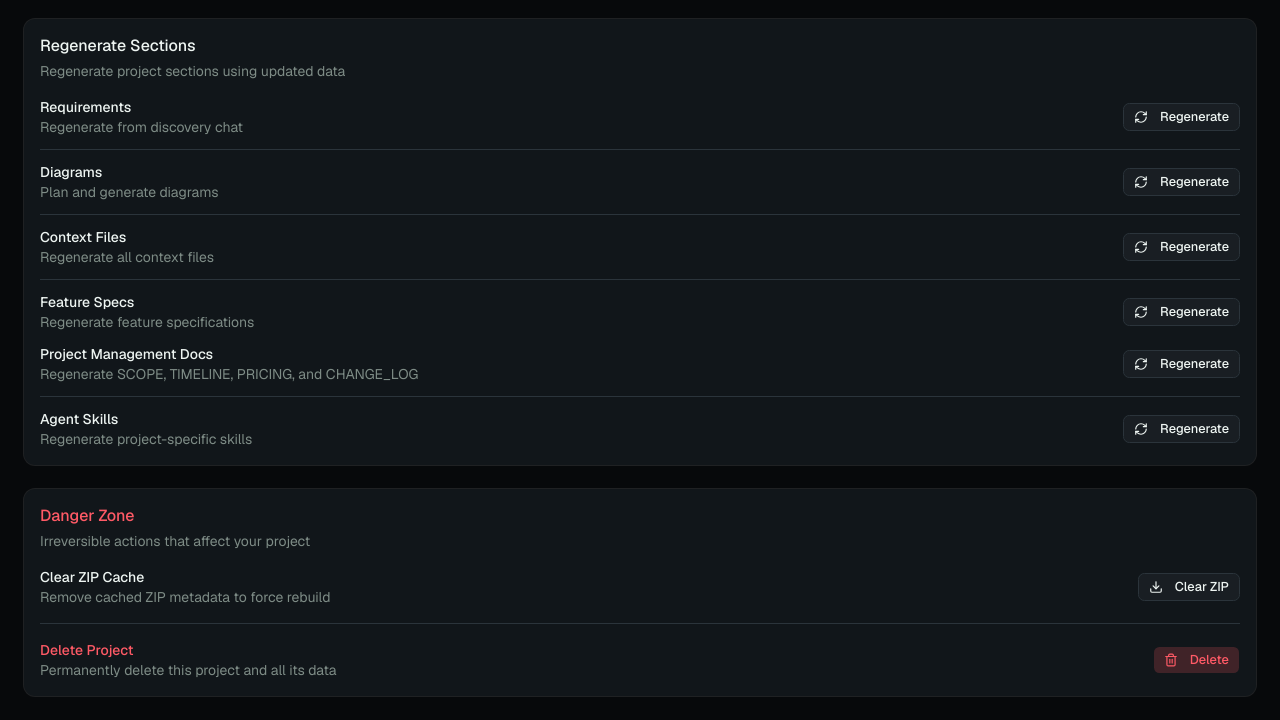
Test: ProjectSettings › clears ZIP metadata
(page scrolled)
Step 1. Click the button "Clear ZIP" → point(1189, 587), box 1138,573 -> 1240,601
(page scrolled)
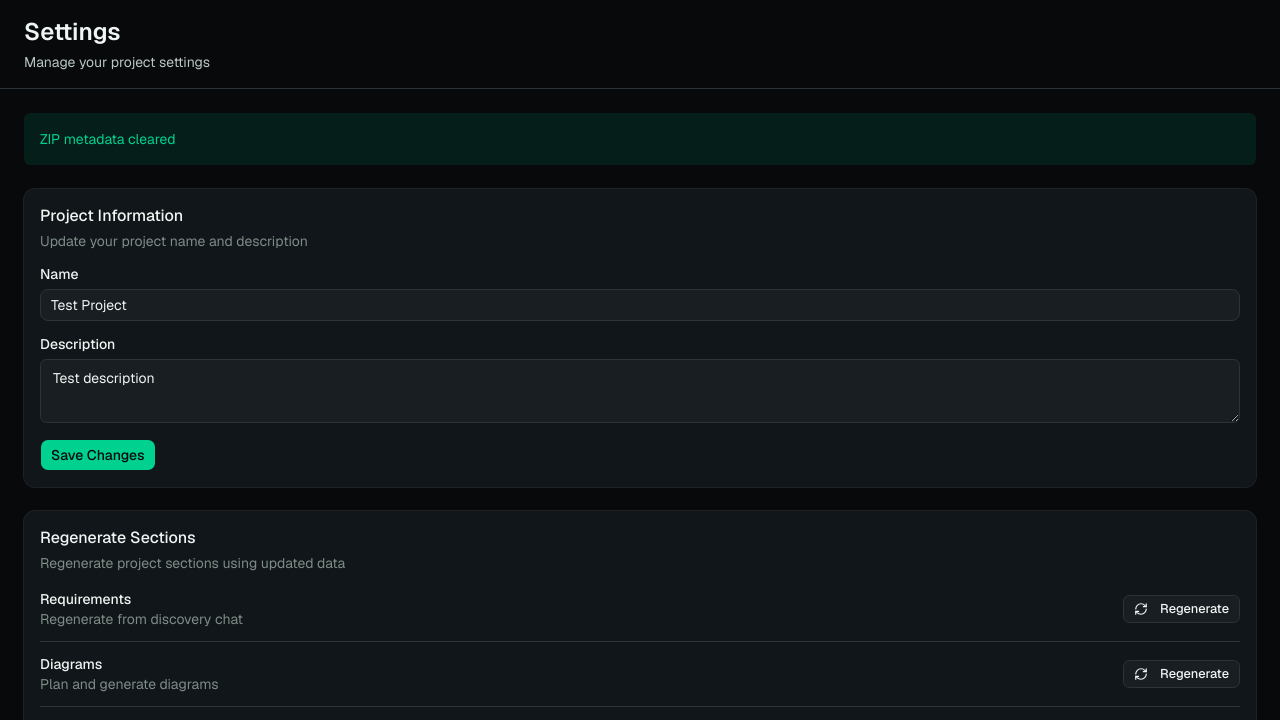
Check: the text "ZIP metadata cleared" is shown, box 24,113 -> 1256,165
